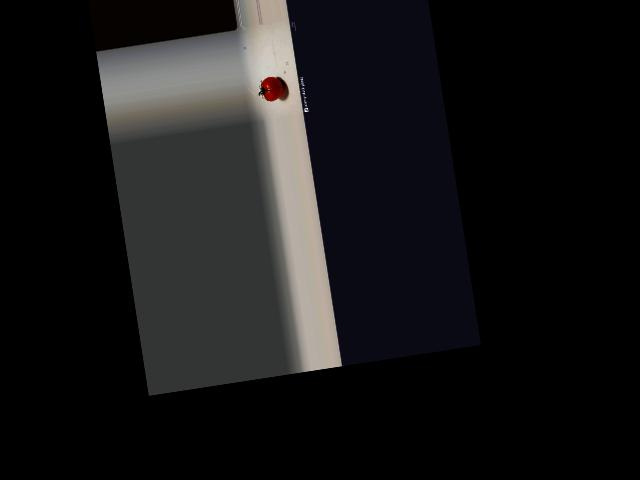tomato: (260, 74, 285, 101)
